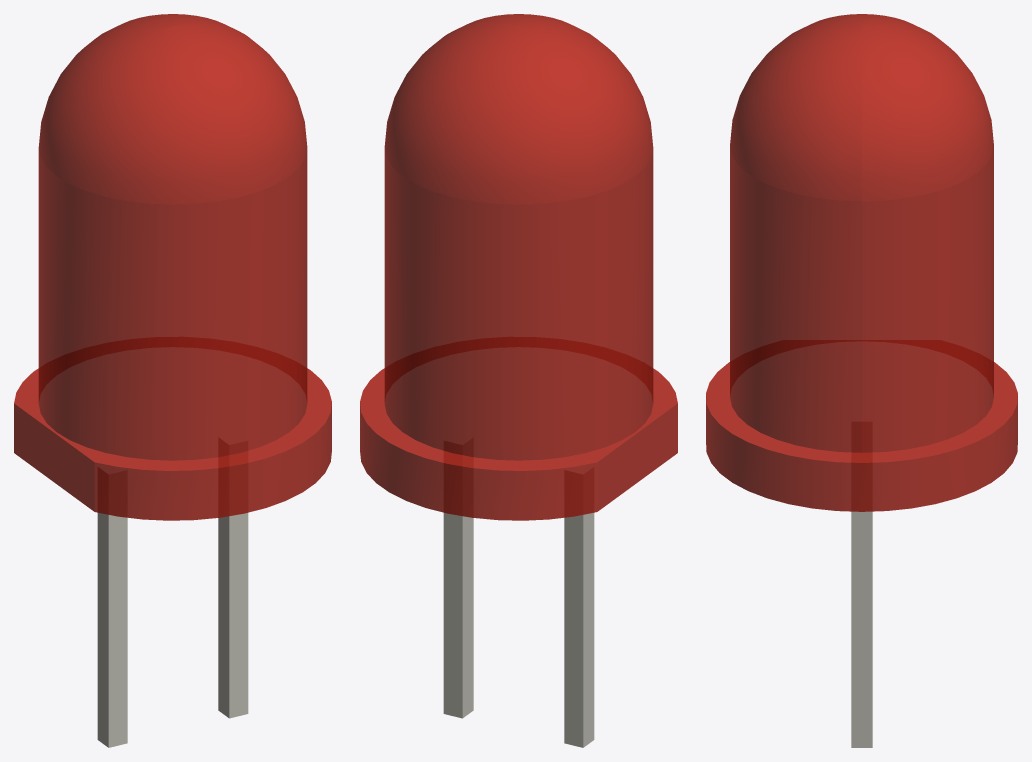
Rendered from led-5mm.glb.
The picture shows the model from 3 angles, left to right: view 1: azimuth 30°, elevation 25°; view 2: azimuth 150°, elevation 25°; view 3: azimuth 270°, elevation 25°; orthographic projection.
Visible parts, largest first — view 1: led-5mm; view 2: led-5mm; view 3: led-5mm.
Boxes of the visible parts, <box> form: led-5mm: <box>14,14,331,747</box>; led-5mm: <box>360,14,677,747</box>; led-5mm: <box>706,14,1017,747</box>.
Size of the model in its own units: 5.4 by 14.1 by 5.79.
